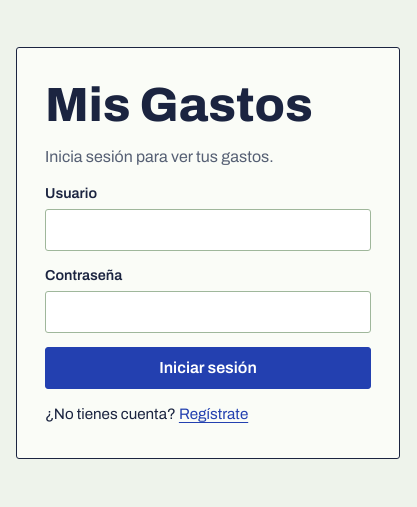
Register and login › shows wrong credentials without treating the 401 as an expired session
Type "ana" into the field labelled "Usuario" at (208, 230), box left=45, top=209, right=371, bottom=251
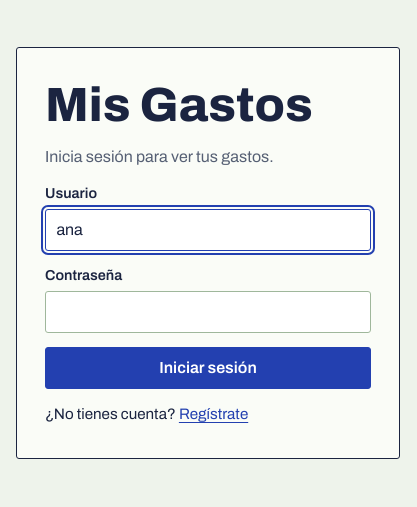
Type "equivocada" into the password field labelled "Contraseña" at (208, 312), box left=45, top=291, right=371, bottom=333
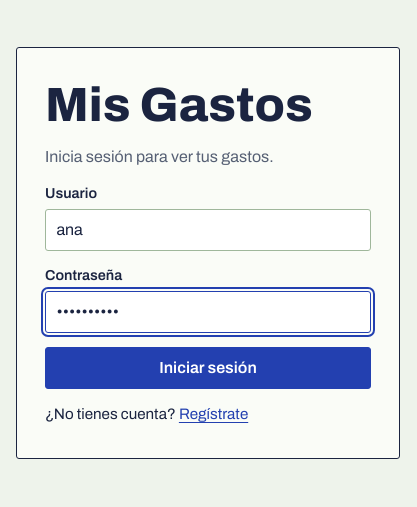
Click the button "Iniciar sesión" at (208, 368), box left=45, top=347, right=371, bottom=389
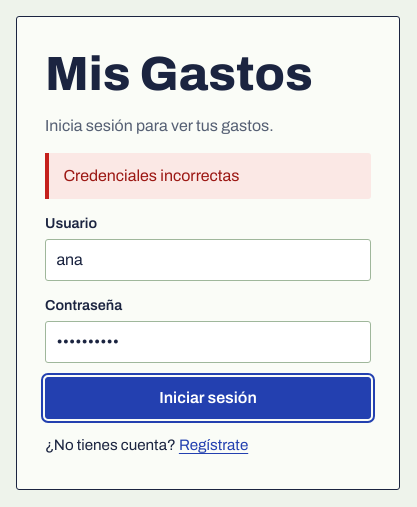
Expected: the message reads "Credenciales incorrectas", left=63, top=167, right=240, bottom=184
